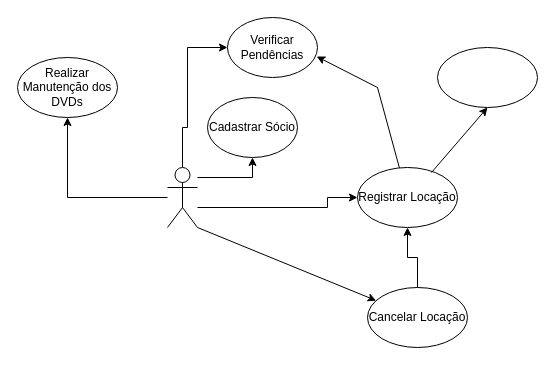
Image size: 555x365. Some labels were removed from this diagram. Each missing label, with the centre of its shape:
"Checar Cadastro" goes at point 487,77.
"Funcionário" goes at point 182,197.
